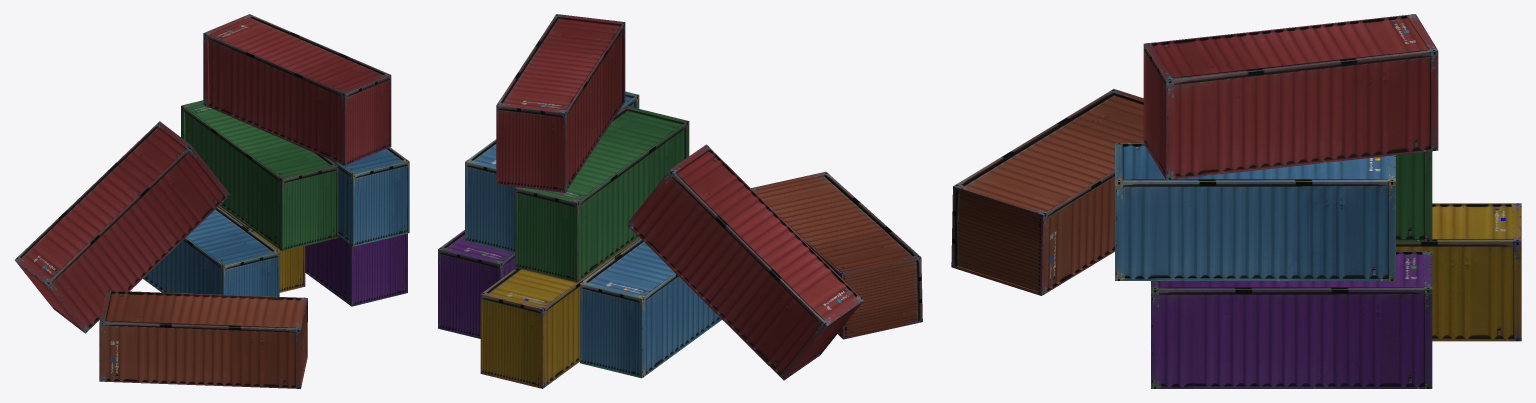
Rendered from containers.glb.
The picture shows the model from 3 angles, left to right: view 1: azimuth 30°, elevation 25°; view 2: azimuth 150°, elevation 25°; view 3: azimuth 270°, elevation 25°; orthographic projection. The views are drawn at different scales.
Parts seen in each view (by area): view 1: Object_2, Object_7, Object_3, Object_6, Object_4, Object_5; view 2: Object_2, Object_3, Object_6, Object_7, Object_5, Object_4; view 3: Object_2, Object_3, Object_4, Object_7, Object_5, Object_6.
Part boxes in pixels (bbox=[...]): Object_2: bbox=[15, 14, 391, 333]; Object_7: bbox=[99, 290, 307, 388]; Object_3: bbox=[143, 147, 409, 296]; Object_6: bbox=[181, 100, 338, 251]; Object_4: bbox=[305, 233, 407, 306]; Object_5: bbox=[218, 205, 305, 292]; Object_2: bbox=[496, 14, 863, 380]; Object_3: bbox=[465, 91, 721, 378]; Object_6: bbox=[515, 106, 689, 282]; Object_7: bbox=[751, 171, 922, 339]; Object_5: bbox=[480, 237, 640, 388]; Object_4: bbox=[438, 230, 515, 338]; Object_2: bbox=[1143, 14, 1438, 180]; Object_3: bbox=[1115, 143, 1395, 280]; Object_4: bbox=[1151, 251, 1432, 388]; Object_7: bbox=[951, 89, 1143, 295]; Object_5: bbox=[1396, 203, 1521, 341]; Object_6: bbox=[1396, 151, 1432, 241].
Bounding box in the file's own units: 129 × 83.03 × 142.
Materials: 6 (6 with a texture image).
